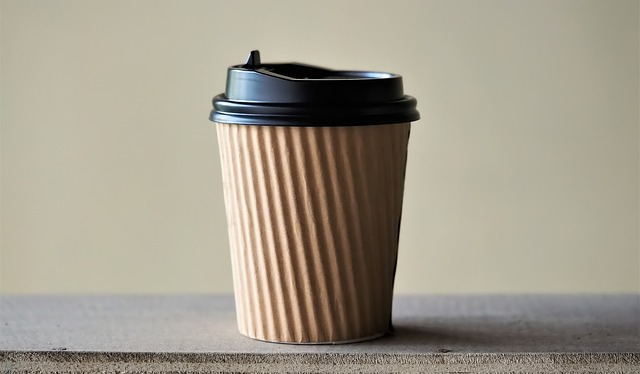cup: (199, 43, 443, 351)
